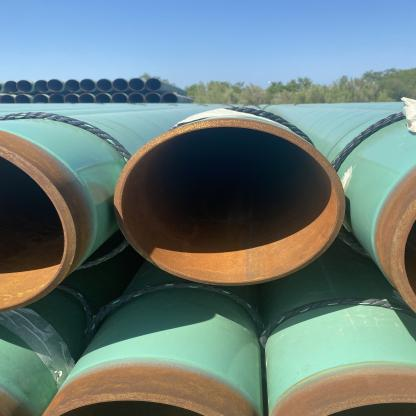clean: (209, 116, 257, 139)
